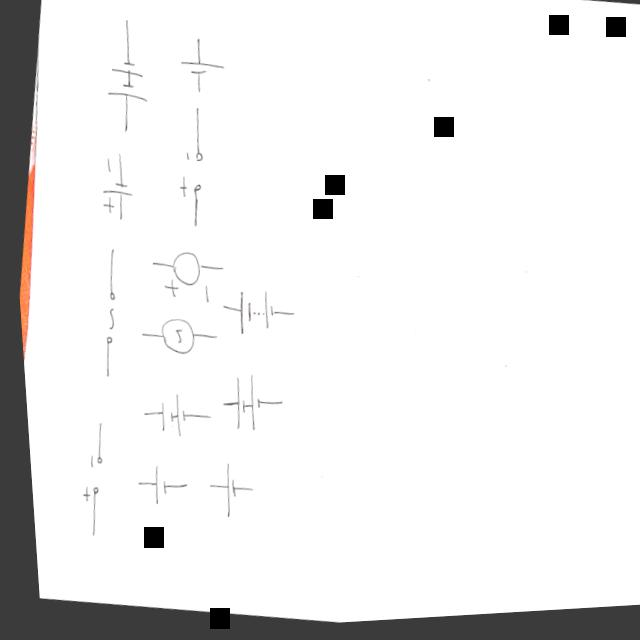source: (219, 277, 286, 350), (93, 48, 156, 123), (215, 365, 273, 445), (153, 238, 218, 308), (61, 440, 108, 512), (143, 386, 195, 447), (202, 451, 243, 528), (94, 152, 139, 221), (134, 456, 179, 519), (168, 144, 210, 206), (174, 48, 229, 93), (90, 283, 123, 355), (146, 314, 196, 361)
